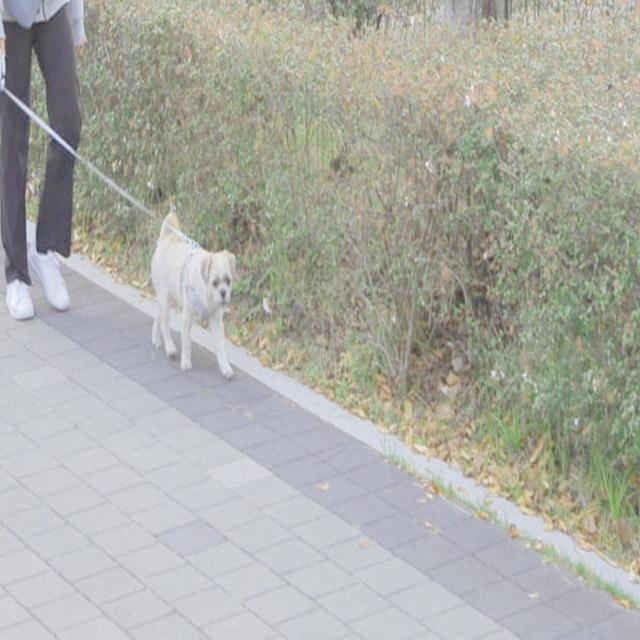Leashed_Dog: (52, 82, 235, 380)
